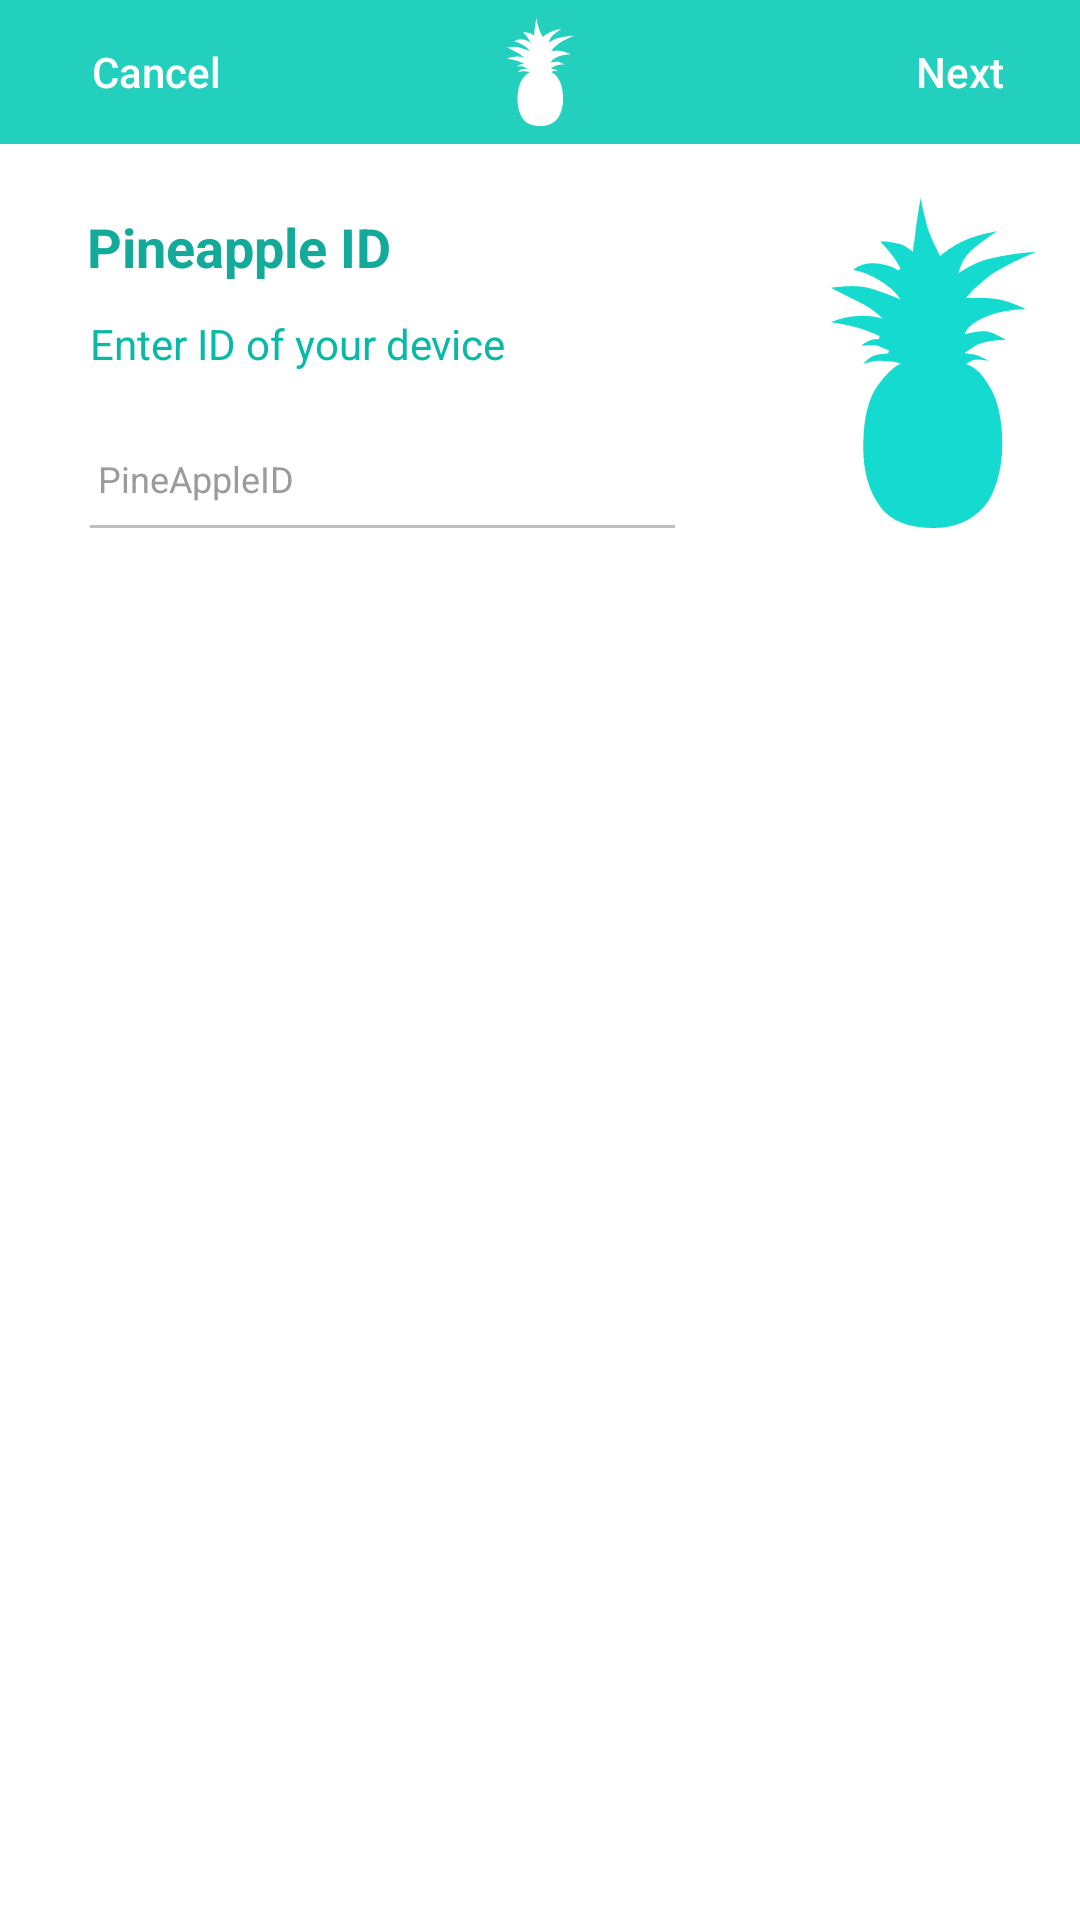

Screen size 1080*1920. Icon name, then its box in pixels as (x1, y1, x2, y2):
pine toolbar: (507, 18, 574, 126)
